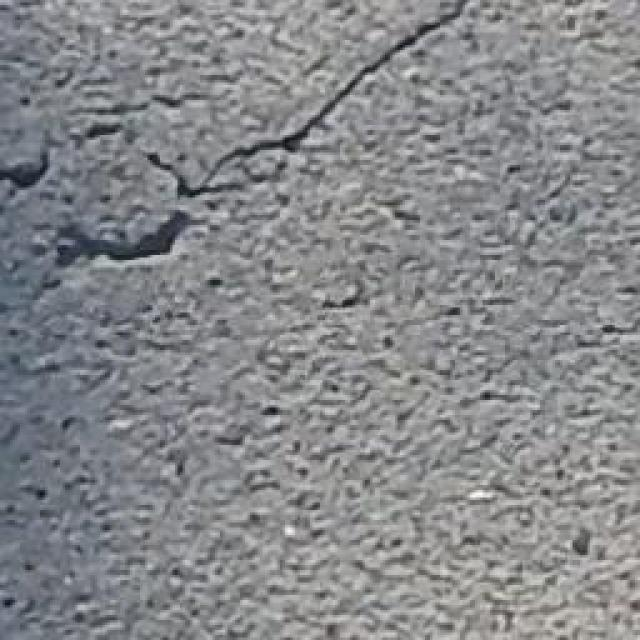concrete-crack: (47, 0, 475, 295)
